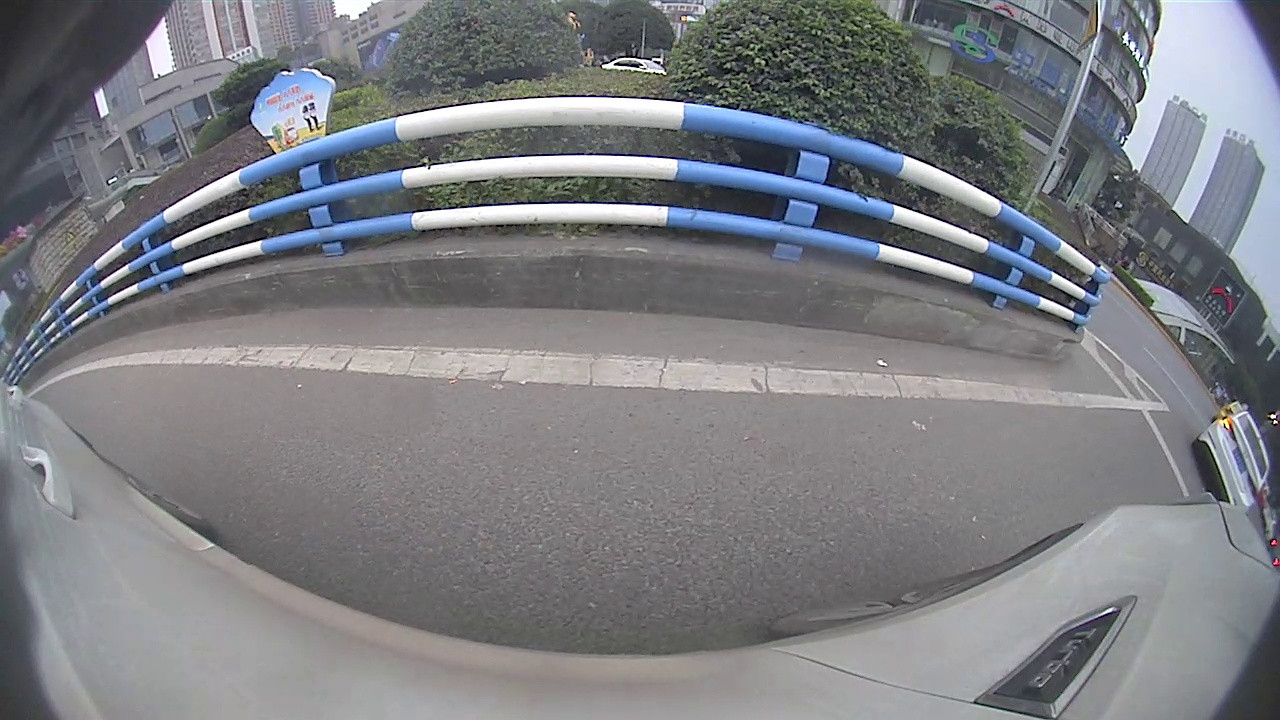car: (1190, 409, 1275, 516)
